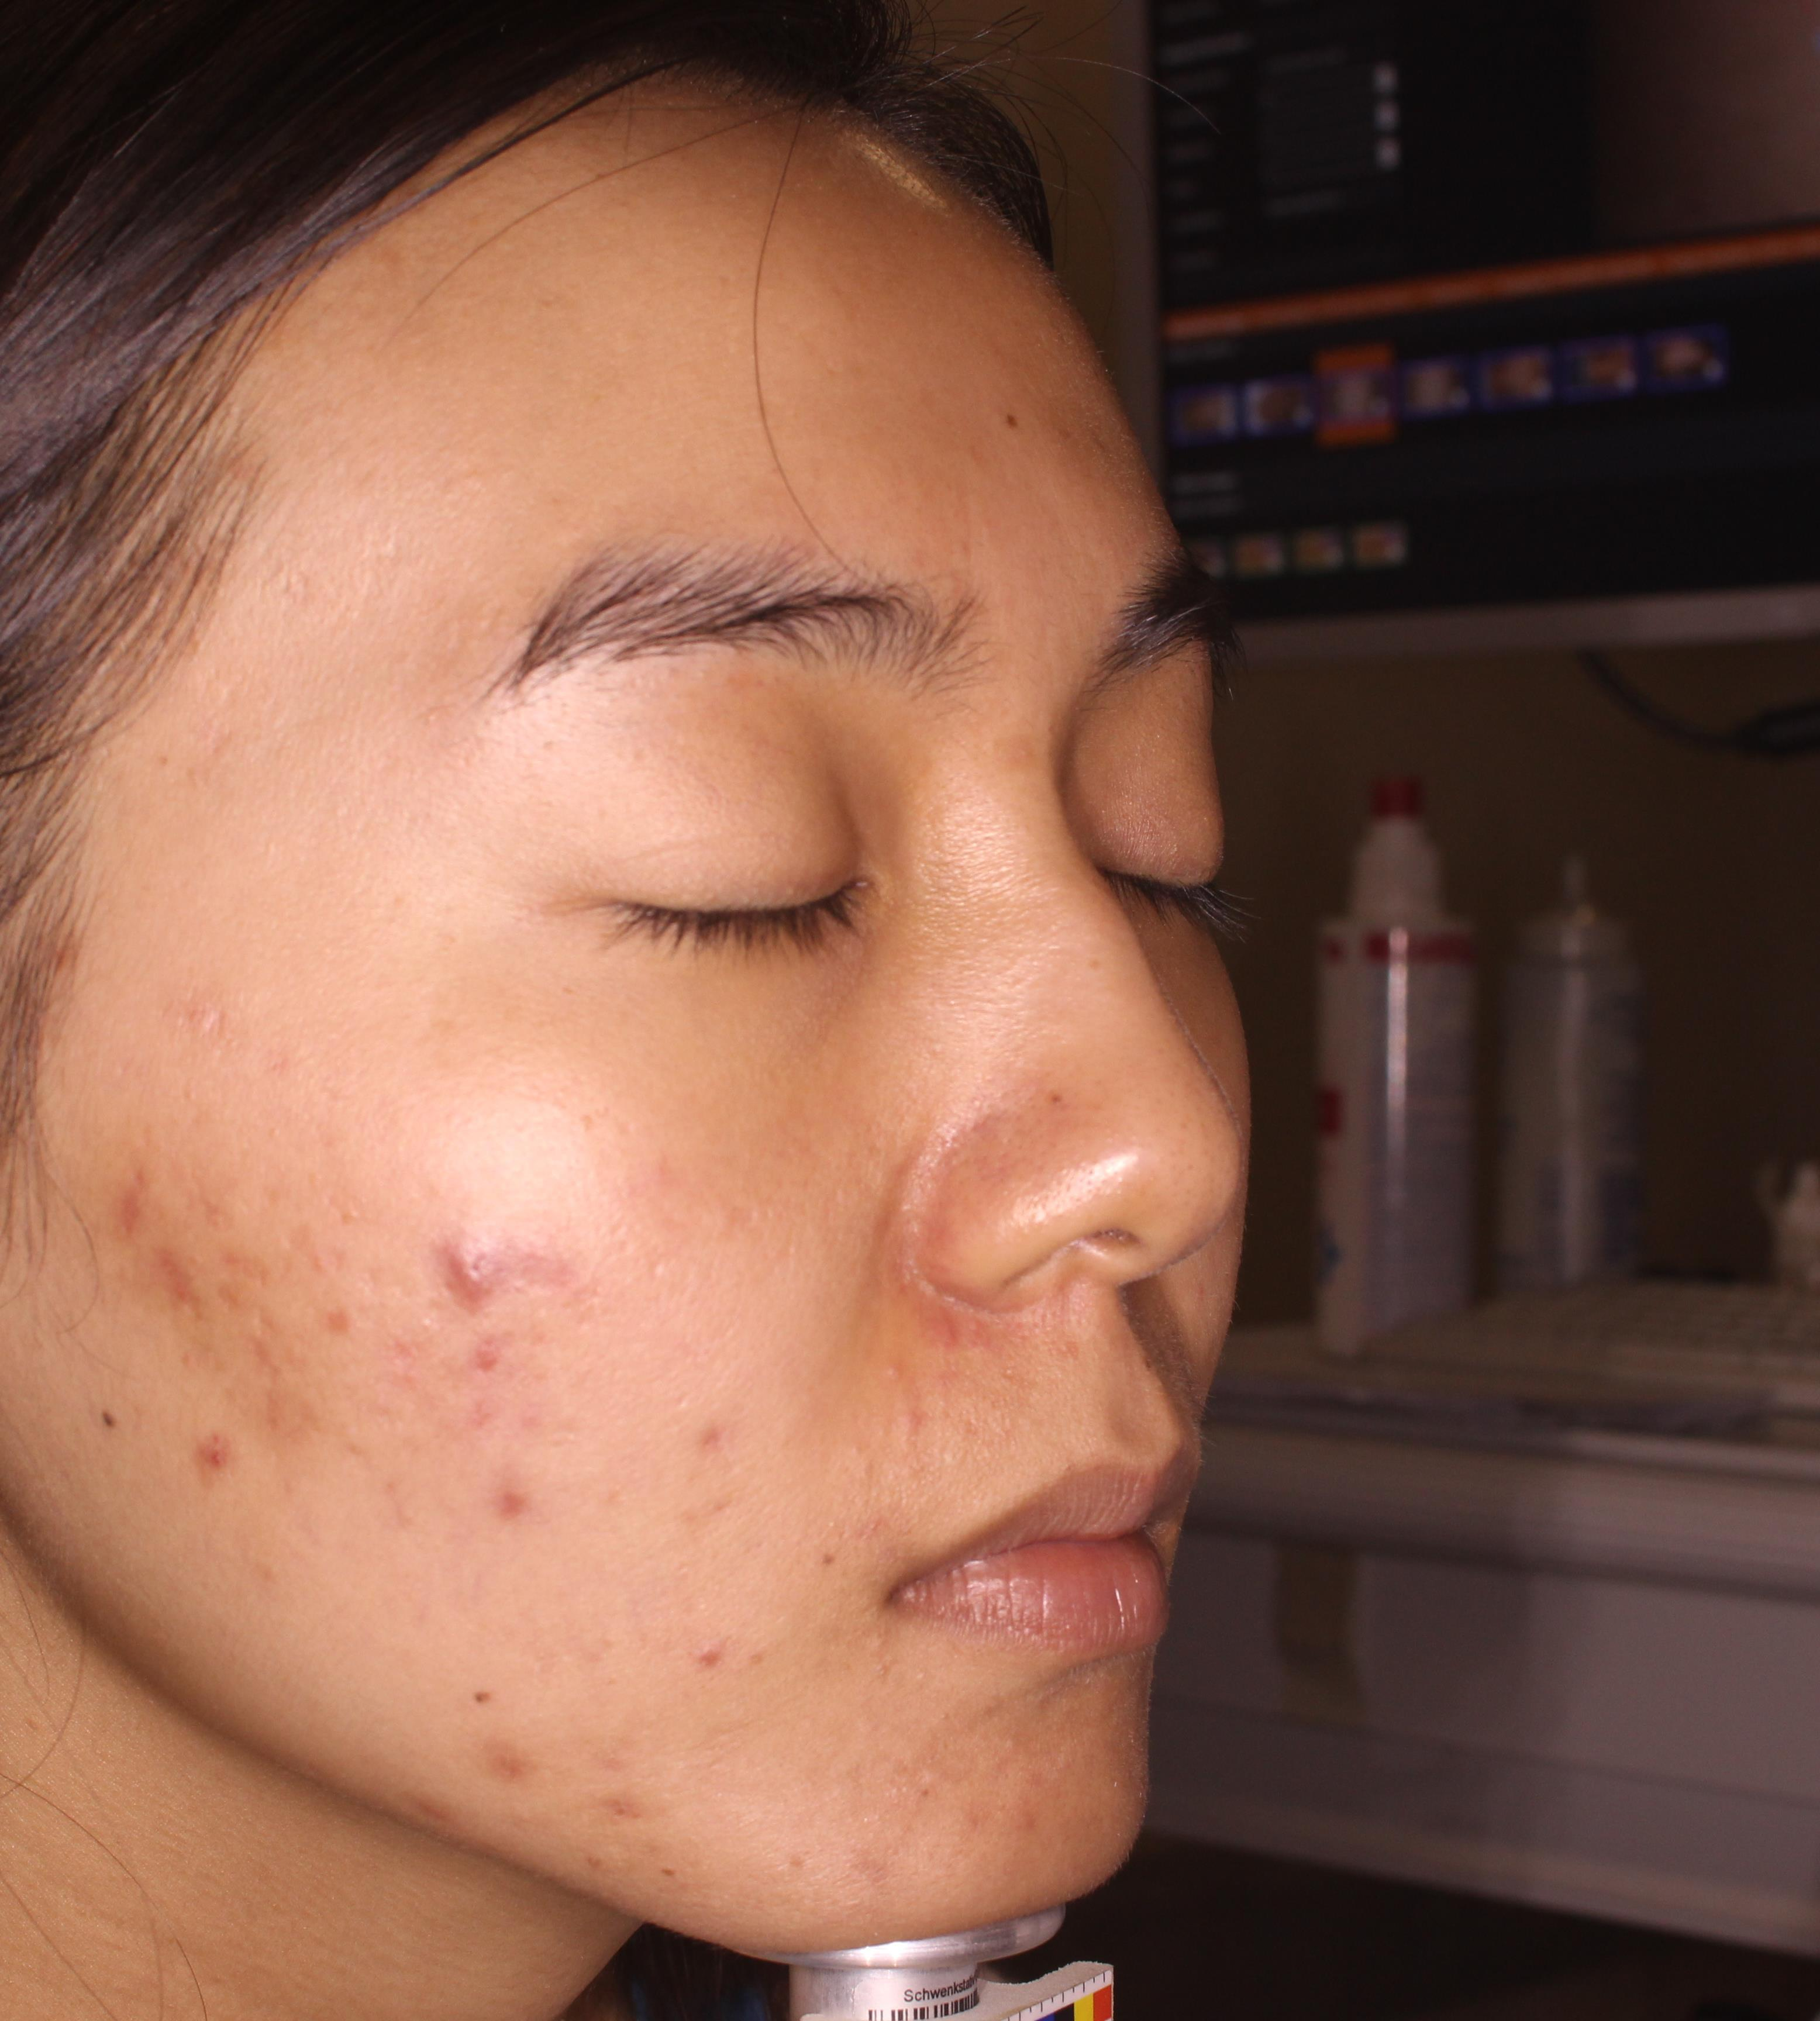fore: (404, 1176, 557, 1303), (251, 1334, 372, 1468), (664, 1384, 762, 1540), (141, 1217, 251, 1338), (450, 1728, 539, 1840), (459, 1436, 574, 1514), (184, 1428, 265, 1531), (430, 1315, 525, 1396), (95, 1141, 149, 1213)
